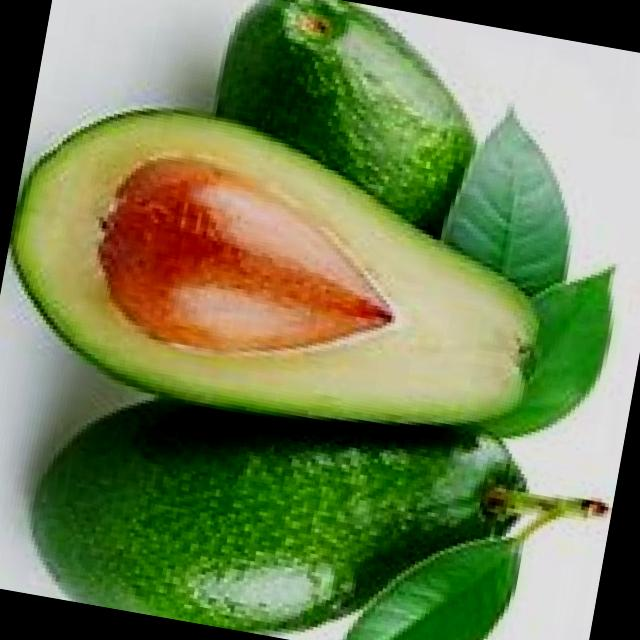avocado: (0, 90, 579, 458), (18, 361, 529, 640)
